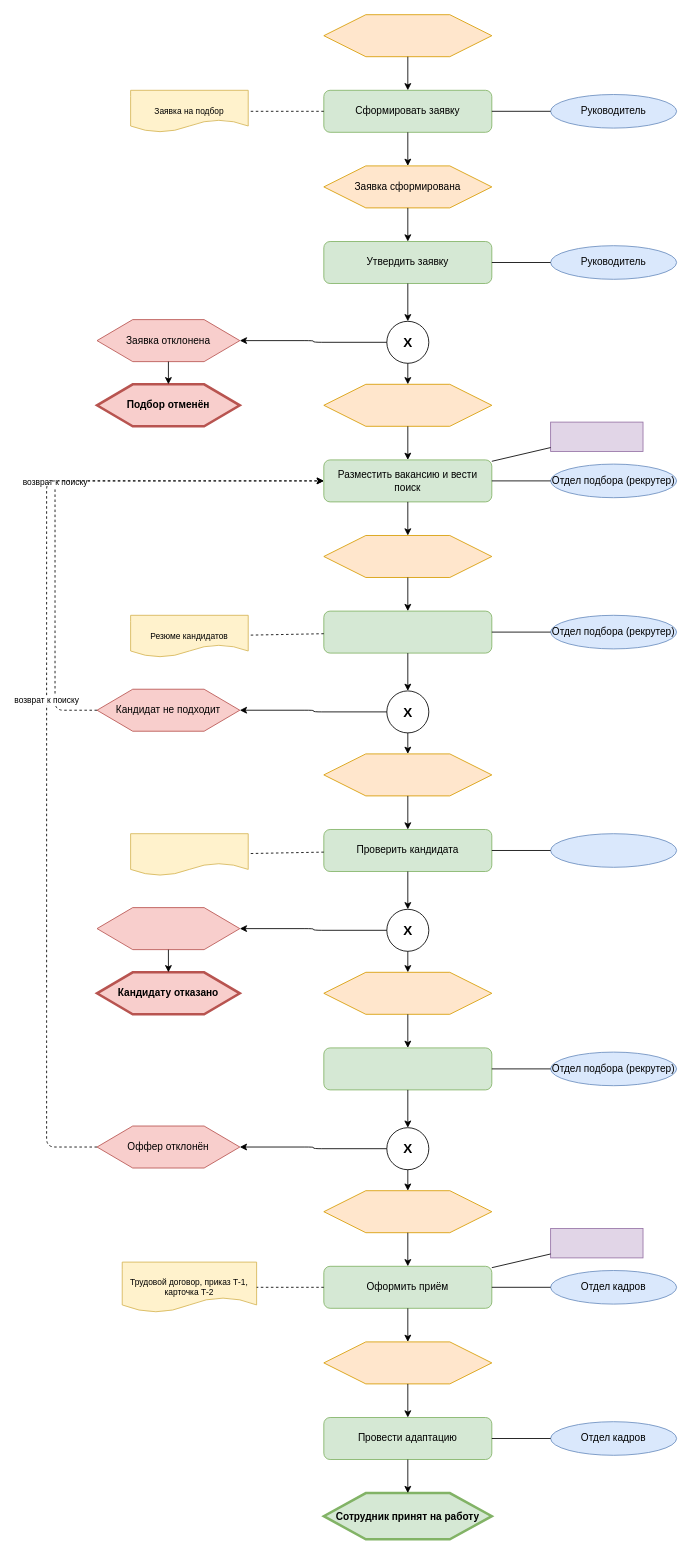
Some shapes in this 691 by 1555 pixel diagram are drawn without their labels. Here are the shapes that lost their labels. From the top down, the centre of each, then its label:
At [407,35]: "Вакансия открыта".
At [407,404]: "Заявка утверждена".
At [596,436]: "ИС: hh.ru".
At [407,556]: "Резюме получены".
At [407,631]: "Провести скрининг и собеседование".
At [407,774]: "Кандидат подходит".
At [189,854]: "Заключение СБ".
At [613,850]: "Служба безопасности".
At [168,928]: "Проверка не пройдена".
At [407,992]: "Проверка пройдена".
At [407,1068]: "Направить оффер".
At [407,1211]: "Оффер принят".
At [596,1243]: "ИС: 1С:ЗУП".
At [407,1362]: "Приём оформлен".
